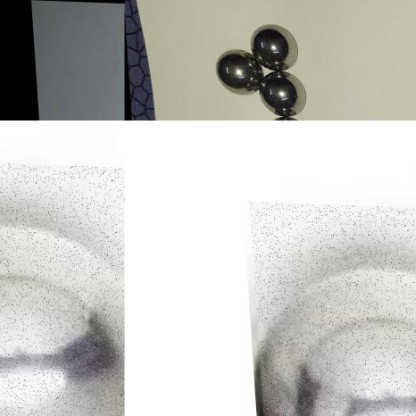ironball: (246, 200, 415, 415), (0, 157, 124, 415), (251, 21, 303, 70), (214, 45, 267, 93), (256, 71, 311, 115)
